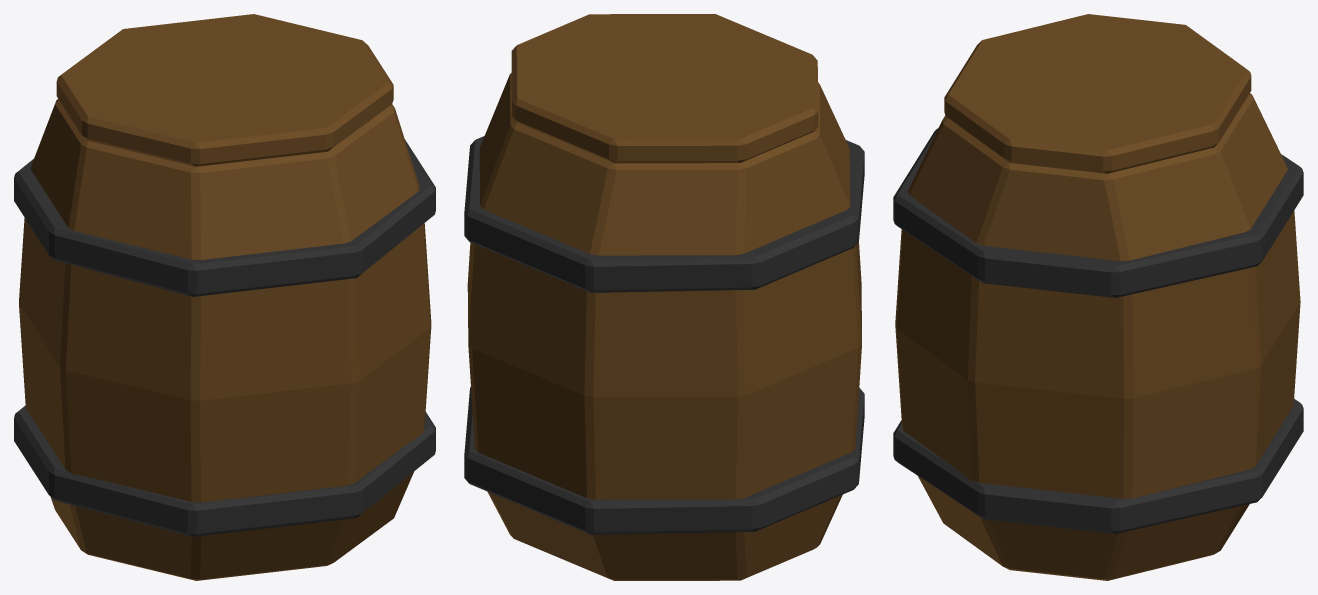
File: Barrel02.fbx
3 renders of one model, left to right at view 1: azimuth 30°, elevation 25°; view 2: azimuth 150°, elevation 25°; view 3: azimuth 270°, elevation 25°, orthographic. The views are drawn at different scales.
Visible parts, largest first — view 1: Barrel.005; view 2: Barrel.005; view 3: Barrel.005.
Boxes of the visible parts, x1=… form: Barrel.005: x1=14, y1=14, x2=435, y2=580; Barrel.005: x1=464, y1=14, x2=864, y2=580; Barrel.005: x1=893, y1=14, x2=1303, y2=580.
Bounding box in the file's own units: 225 × 258 × 223.
